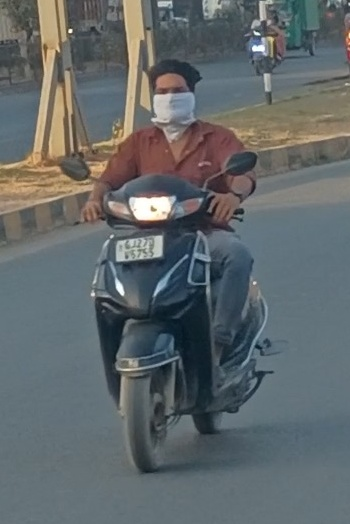BikeWithRider: (52, 53, 292, 478), (238, 2, 292, 79)
NoHelmet: (139, 55, 209, 130)
